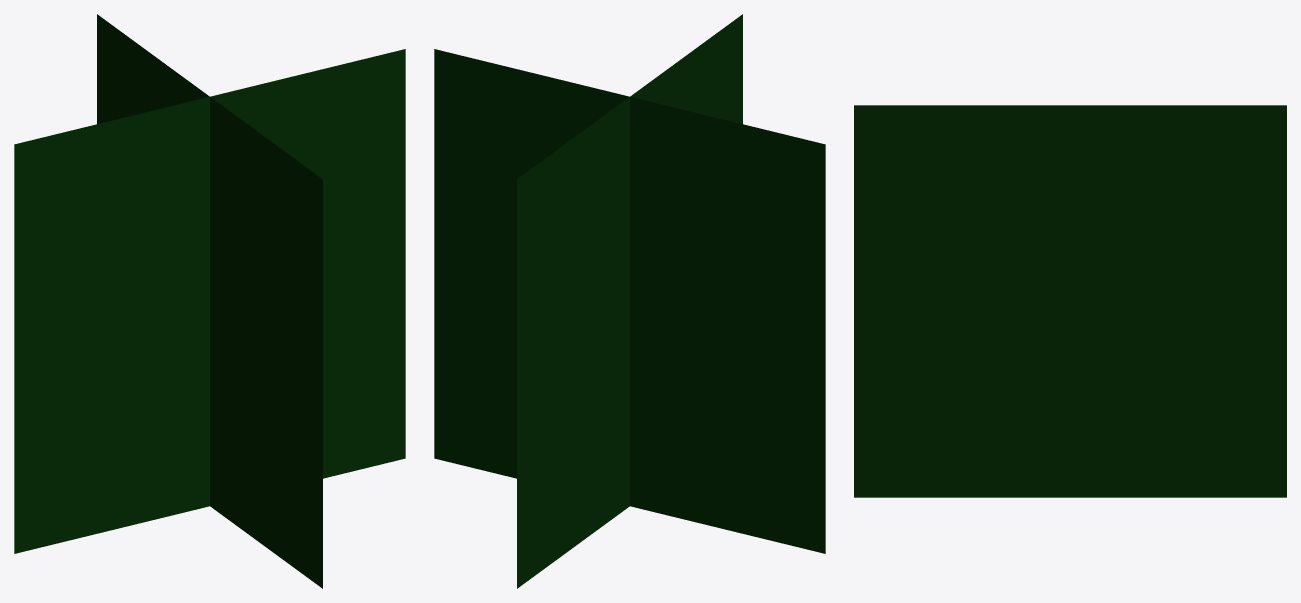
The model's file is Flowers.fbx.
3 views of the same model, side by side, from view 1: azimuth 30°, elevation 25°; view 2: azimuth 150°, elevation 25°; view 3: azimuth 270°, elevation 25° (orthographic). The views are drawn at different scales.
Parts seen in each view (by area): view 1: Flowers_LOD0; view 2: Flowers_LOD0; view 3: Flowers_LOD0.
Part boxes in pixels (box(x1,y1,x2,y2)): Flowers_LOD0: box(14, 14, 405, 588); Flowers_LOD0: box(434, 14, 825, 588); Flowers_LOD0: box(854, 105, 1286, 497).
Size of what is drawn, in the model's own units: 100 by 100 by 100.
